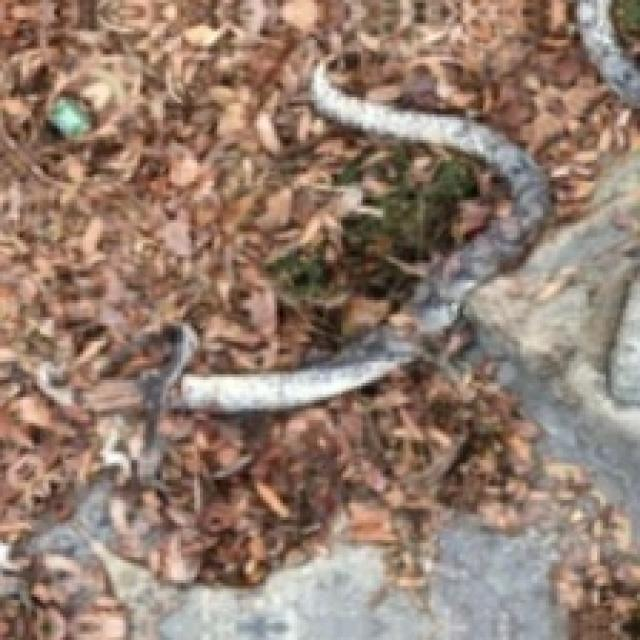reticulated python: (171, 60, 549, 411)
